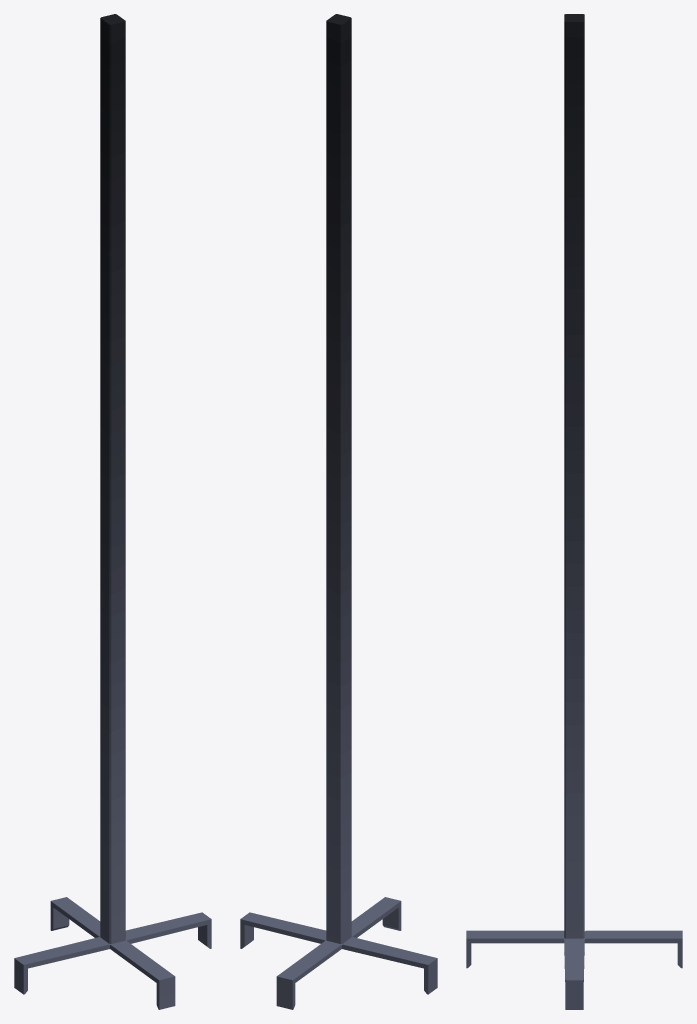
File: SM_grabbyArm.fbx
3 views of the same model, side by side, from view 1: azimuth 30°, elevation 25°; view 2: azimuth 150°, elevation 25°; view 3: azimuth 270°, elevation 25° (orthographic).
Visible parts, largest first — view 1: SM_grabbyArm; view 2: SM_grabbyArm; view 3: SM_grabbyArm.
Boxes of the visible parts, x1,y1,x2,y2 form: SM_grabbyArm: (14,14,211,1009); SM_grabbyArm: (240,14,437,1009); SM_grabbyArm: (466,14,682,1009).
Size of the model in its own units: 107 by 516 by 107.
